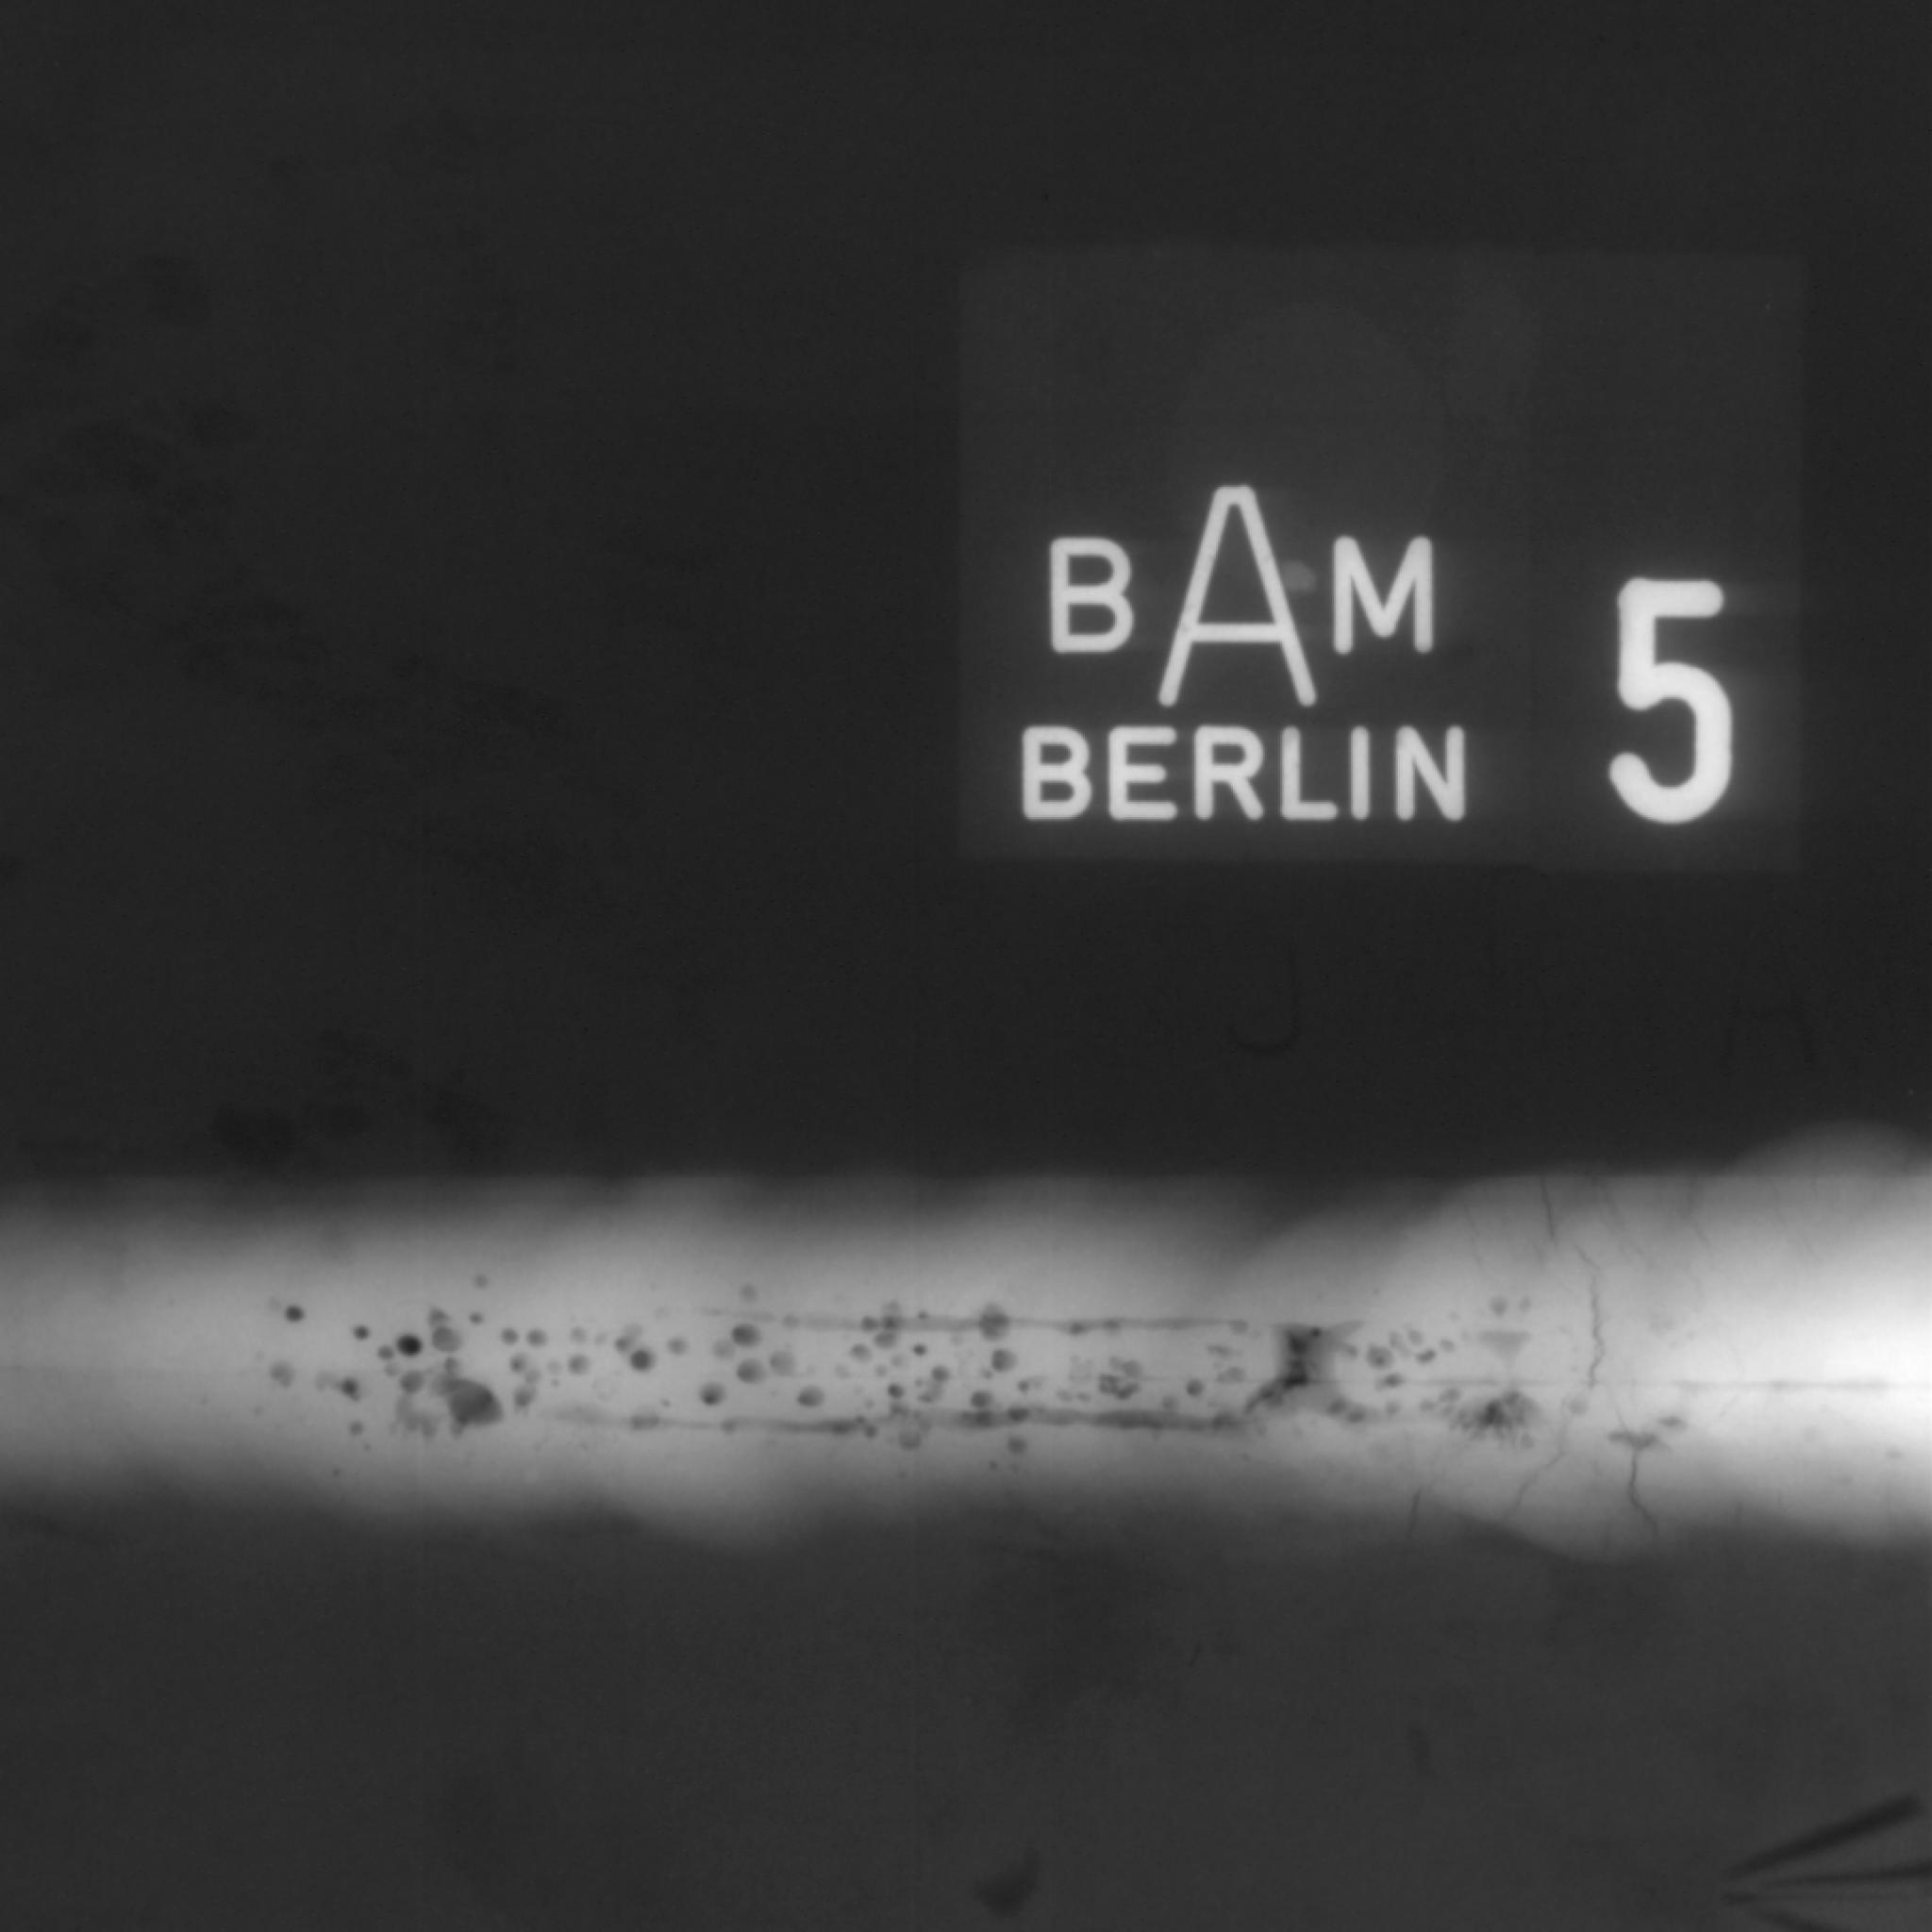Solda Ruim: (0, 1104, 1932, 1677)
